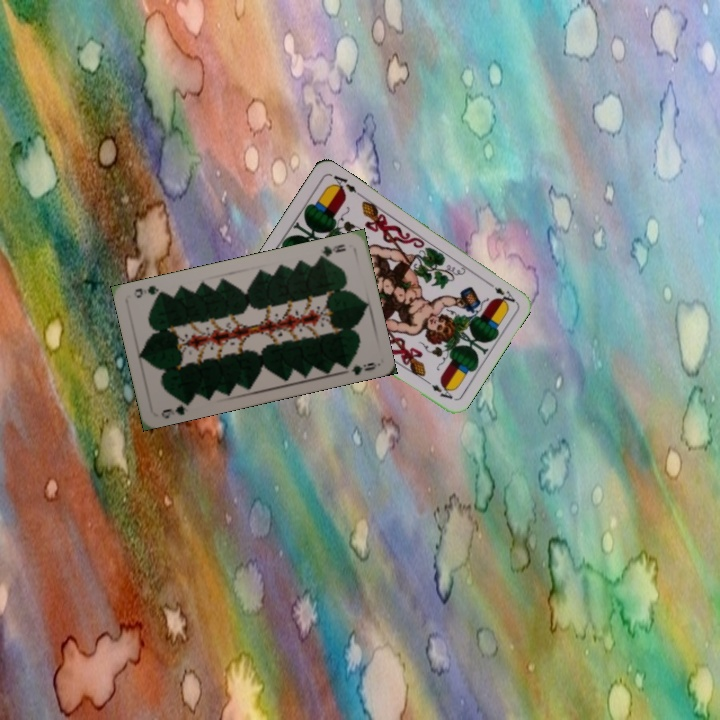EA: (482, 277, 518, 305)
G9: (157, 396, 194, 421), (313, 240, 349, 263)
